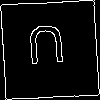U: (24, 24, 68, 74)
